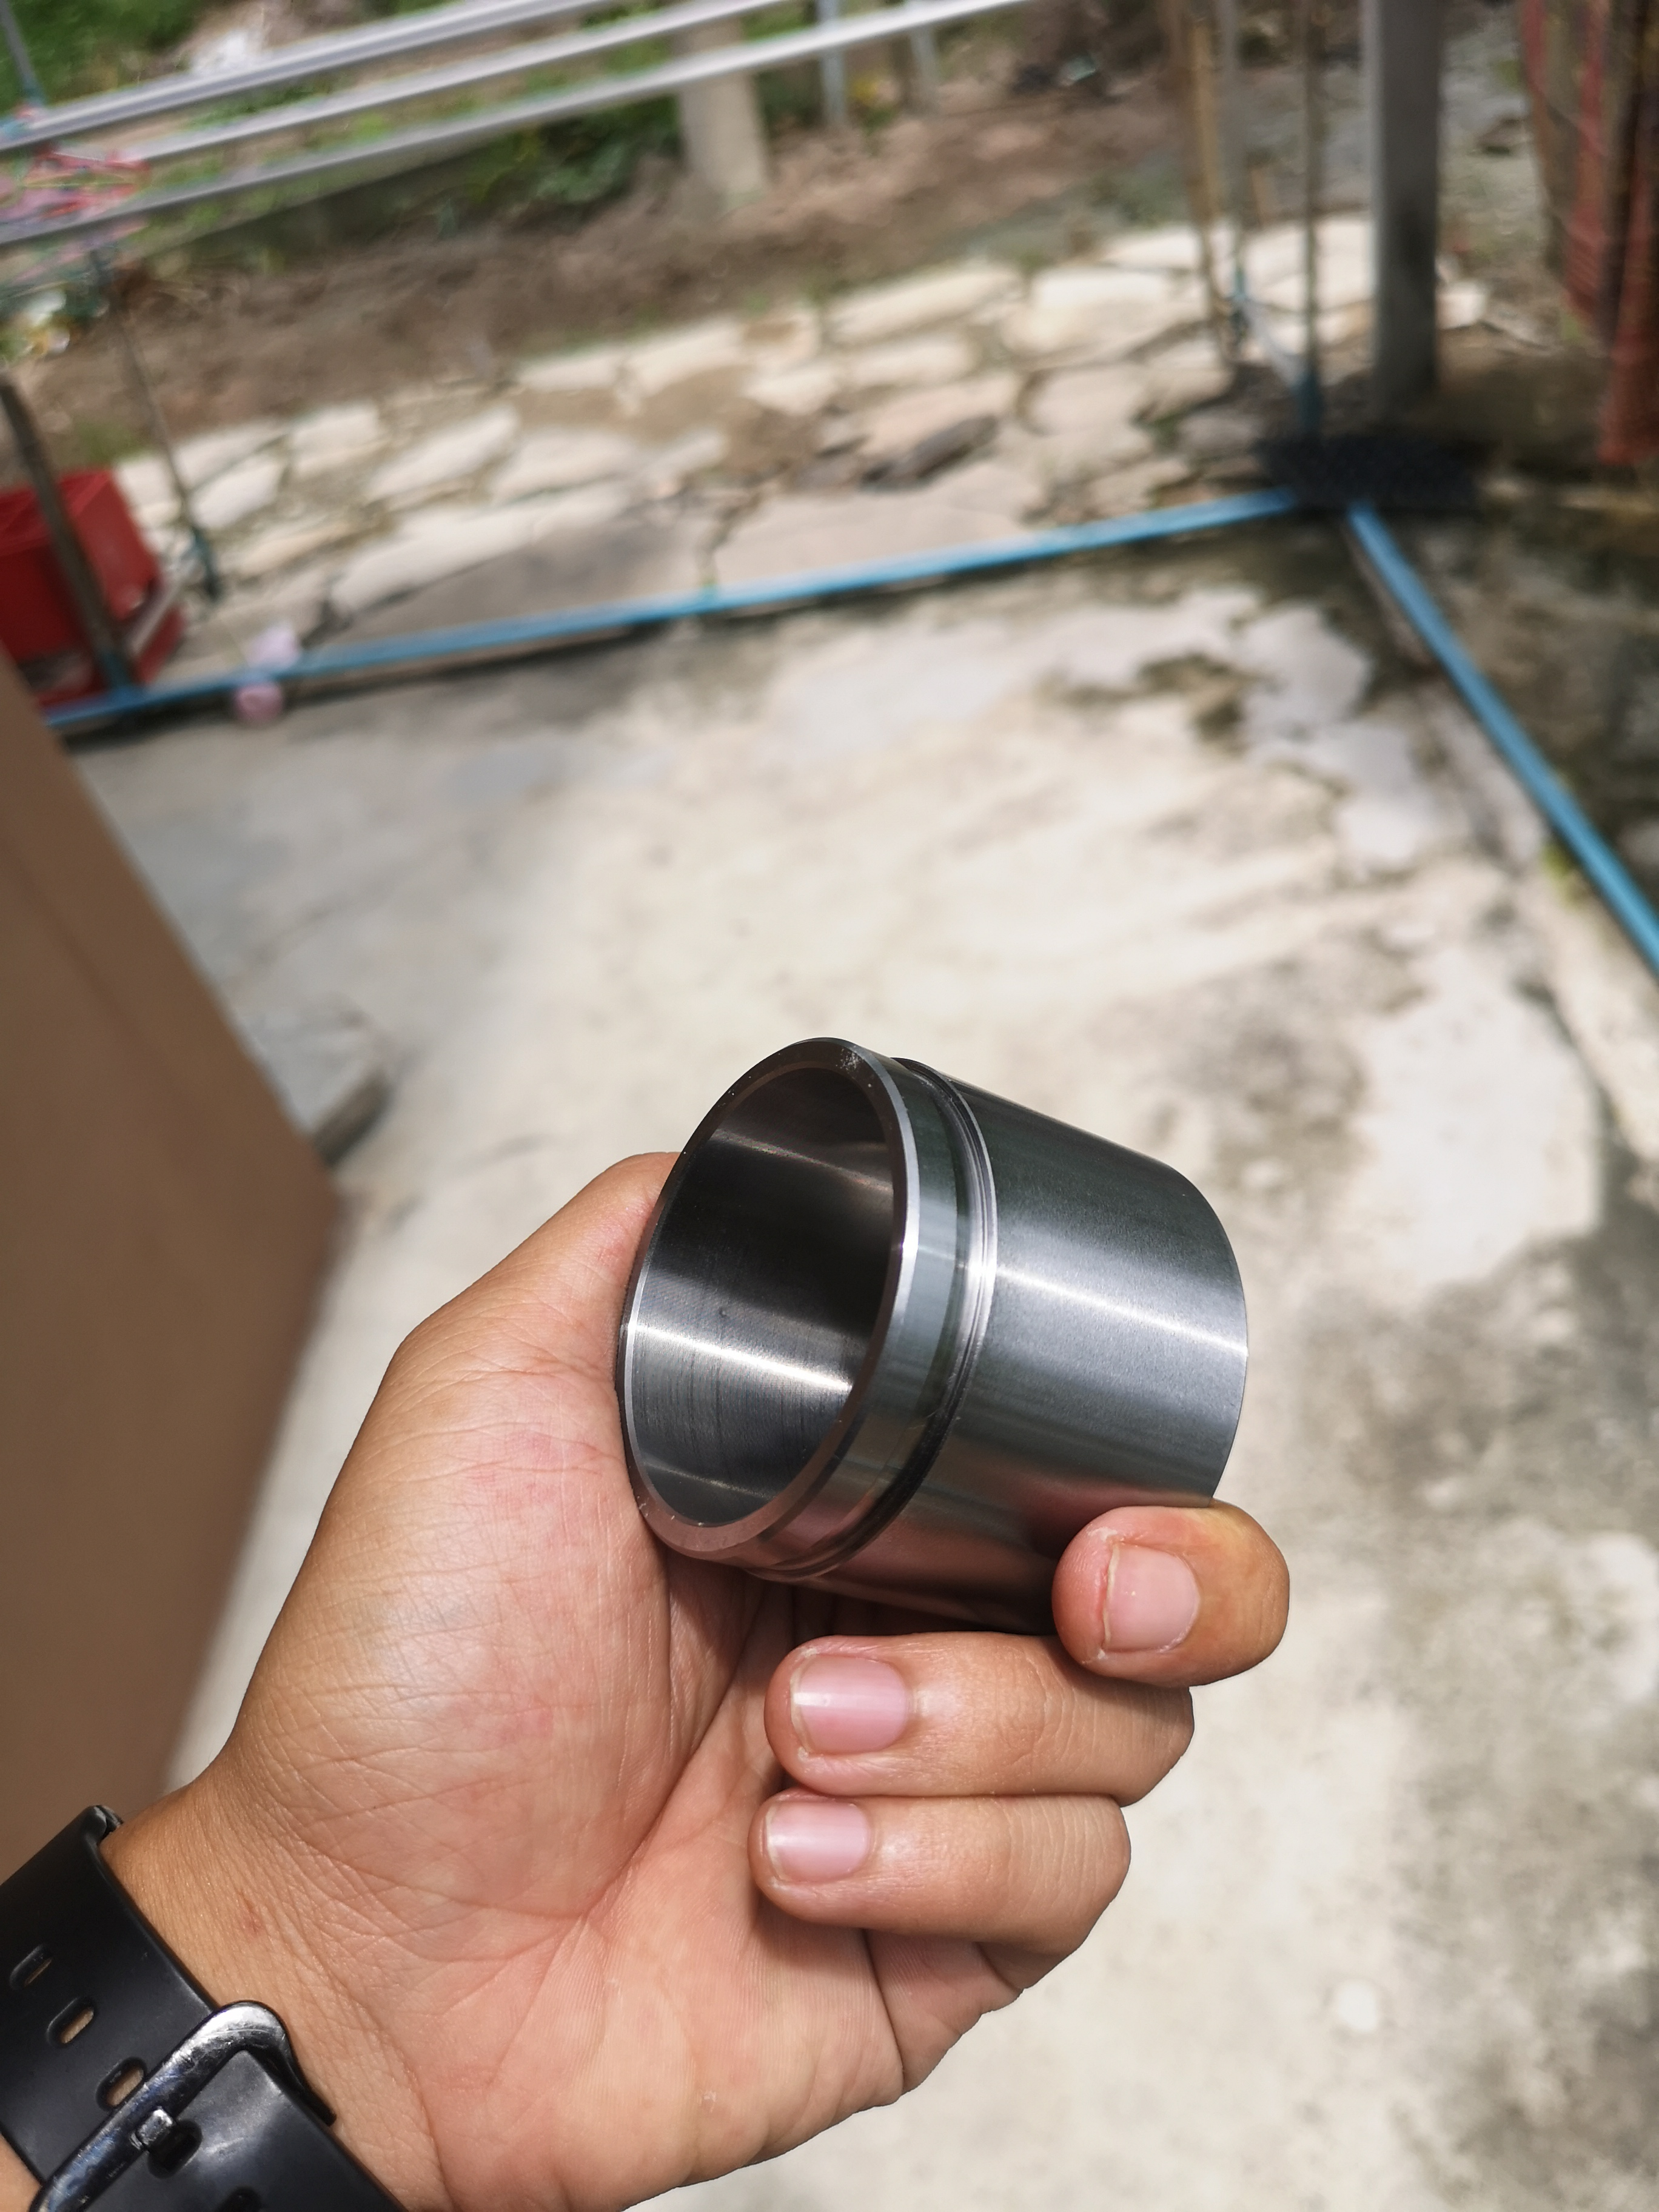ลูกสูบดิสเบรค: (617, 1001, 1316, 1700)
